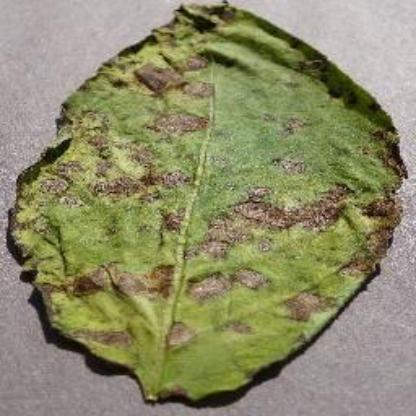Early-Blight: (8, 8, 410, 406)
